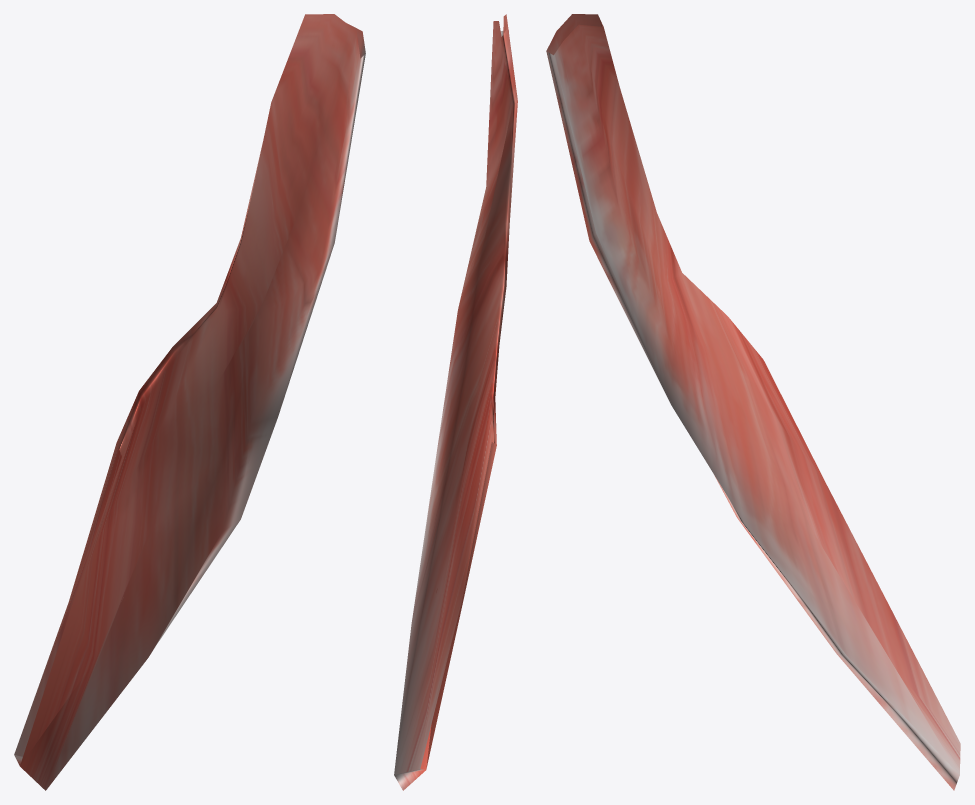
File: Longissimus_Capitis_Muscles_Left.obj
3 renders of one model, left to right at view 1: azimuth 30°, elevation 25°; view 2: azimuth 150°, elevation 25°; view 3: azimuth 270°, elevation 25°, orthographic. The views are drawn at different scales.
Visible parts, largest first — view 1: Splenius_Capitis_Muscle_Left1:Splenius_Cervicis_Muscle_Left1_Mes; view 2: Splenius_Capitis_Muscle_Left1:Splenius_Cervicis_Muscle_Left1_Mes; view 3: Splenius_Capitis_Muscle_Left1:Splenius_Cervicis_Muscle_Left1_Mes.
Part boxes in pixels (<box>): Splenius_Capitis_Muscle_Left1:Splenius_Cervicis_Muscle_Left1_Mes: <box>14,14,365,790</box>; Splenius_Capitis_Muscle_Left1:Splenius_Cervicis_Muscle_Left1_Mes: <box>394,14,517,790</box>; Splenius_Capitis_Muscle_Left1:Splenius_Cervicis_Muscle_Left1_Mes: <box>546,14,960,790</box>.
Size of the model in its own units: 0.2422 by 1.71 by 0.7935.
